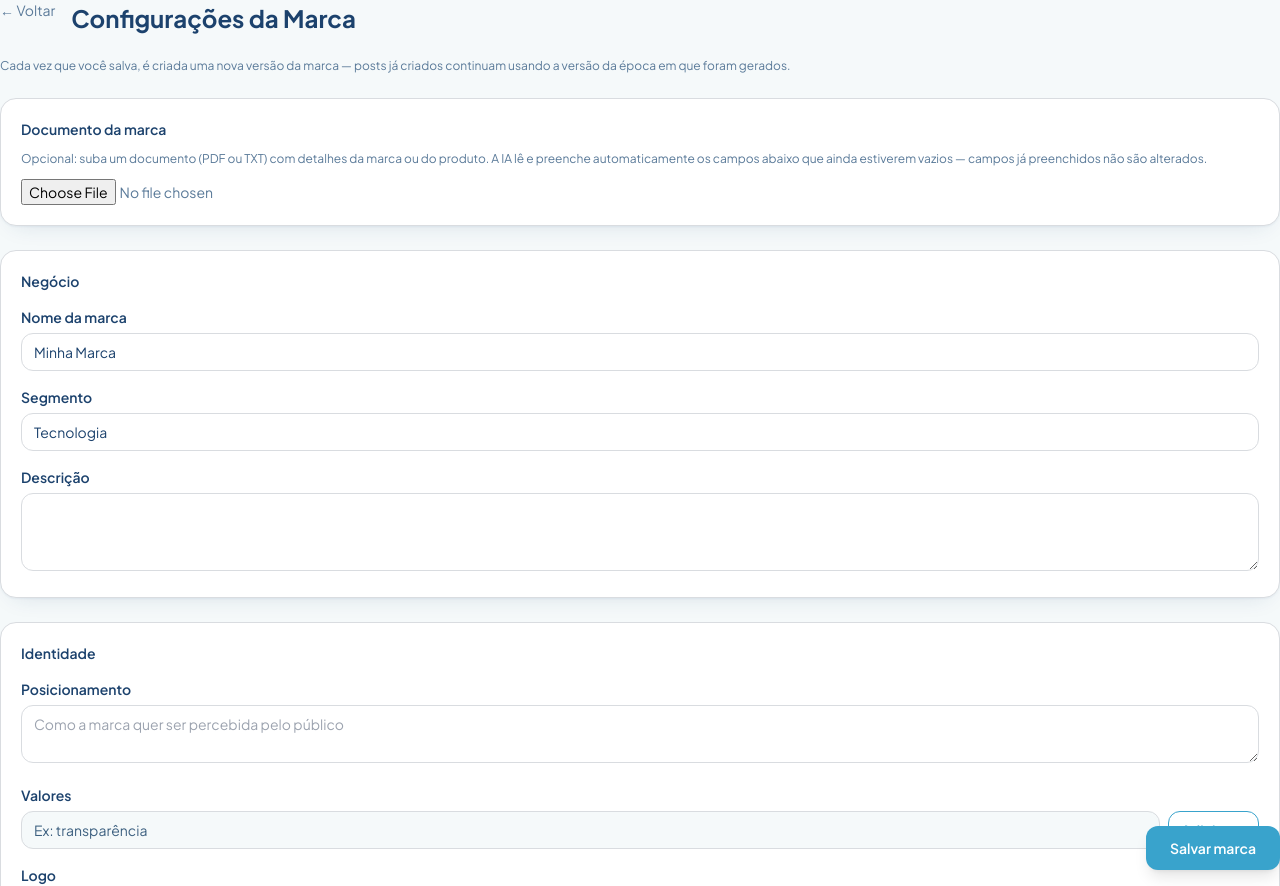
Scenario: BrandSettingsPage — paywall de limite de plano › mostra o PlanLimitPaywall em vez do erro genérico quando o salvamento esbarra num limite de plano
Click the button "Salvar marca": click(1213, 848) [1146,826,1279,870]
(page scrolled)
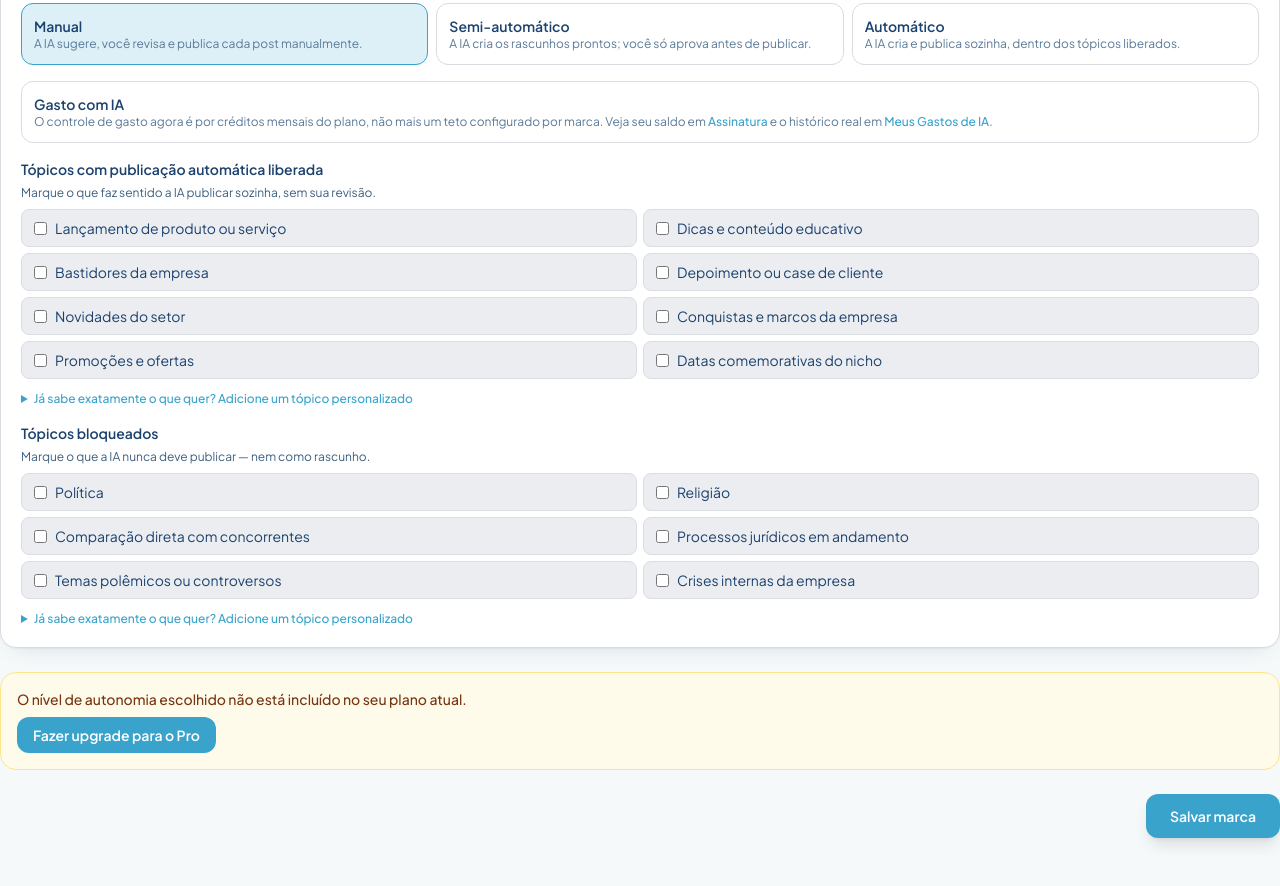
Result: the link "Fazer upgrade para o Pro" is shown at [17,717,216,753]
